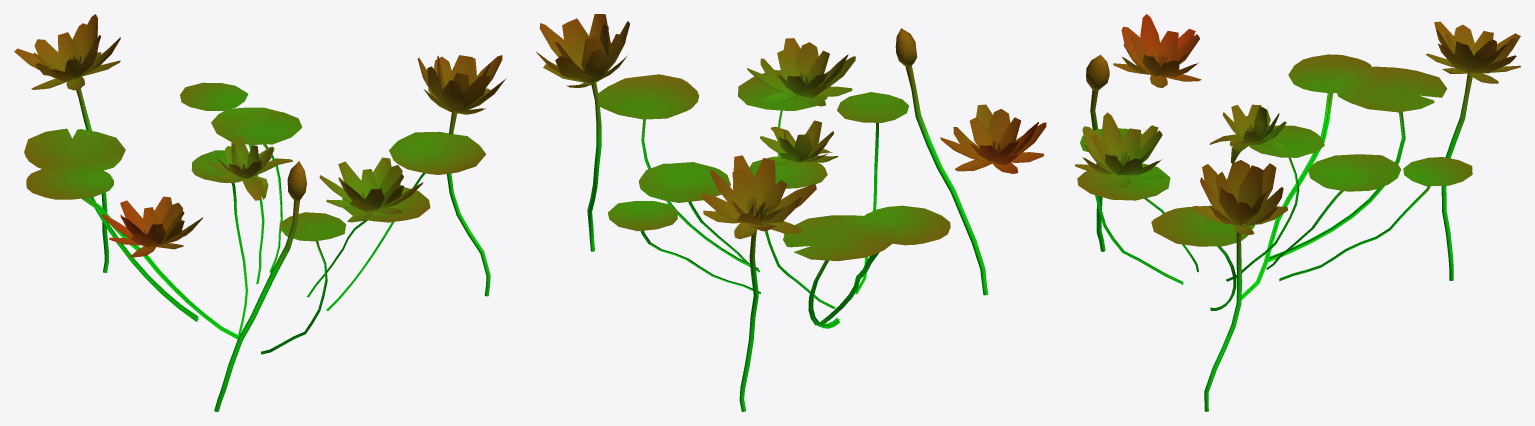
Rendered from Var7_LOD0.fbx.
The picture shows the model from 3 angles, left to right: view 1: azimuth 30°, elevation 25°; view 2: azimuth 150°, elevation 25°; view 3: azimuth 270°, elevation 25°; orthographic projection. The views are drawn at different scales.
Visible parts, largest first — view 1: _9efa_Var7_LOD0; view 2: _9efa_Var7_LOD0; view 3: _9efa_Var7_LOD0.
Boxes of the visible parts, x1,y1,x2,y2 form: _9efa_Var7_LOD0: (14,14,506,411); _9efa_Var7_LOD0: (535,14,1046,411); _9efa_Var7_LOD0: (1075,14,1520,411).
Bounding box in the file's own units: 125 × 67.53 × 110.
